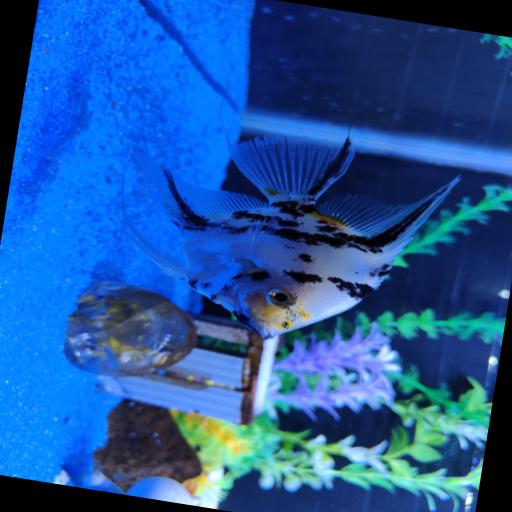Fish: (125, 137, 457, 338)
